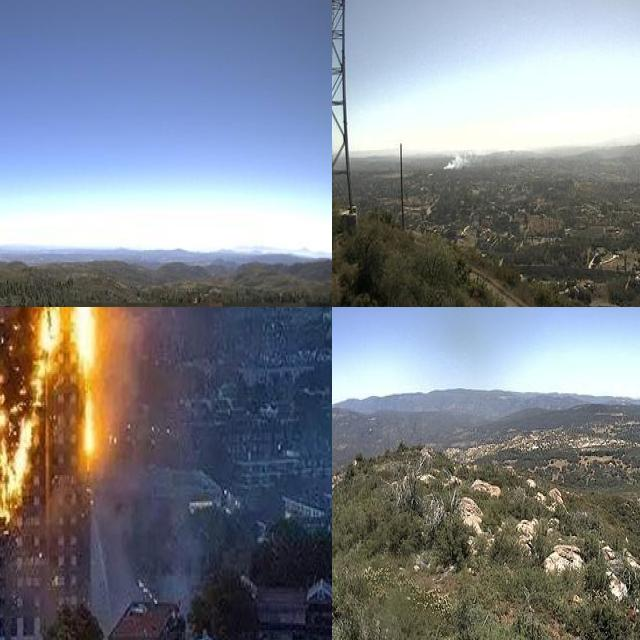fire: (0, 307, 96, 523)
smoke: (99, 307, 139, 448), (439, 140, 482, 168)
